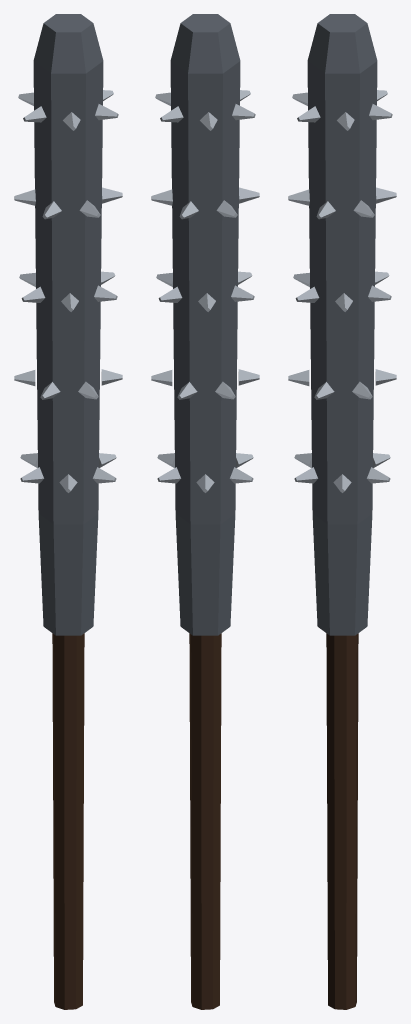
Rendered from g-greatclub-spiked.glb.
The picture shows the model from 3 angles, left to right: view 1: azimuth 30°, elevation 25°; view 2: azimuth 210°, elevation 25°; view 3: azimuth 330°, elevation 25°; orthographic projection.
Visible parts, largest first — view 1: g-greatclub-spiked; view 2: g-greatclub-spiked; view 3: g-greatclub-spiked.
Boxes of the visible parts, x1,y1,x2,y2 form: g-greatclub-spiked: [14, 14, 122, 1009]; g-greatclub-spiked: [151, 14, 259, 1009]; g-greatclub-spiked: [288, 14, 396, 1009].
Bounding box in the file's own units: 0.1301 × 1.3 × 0.1301.
